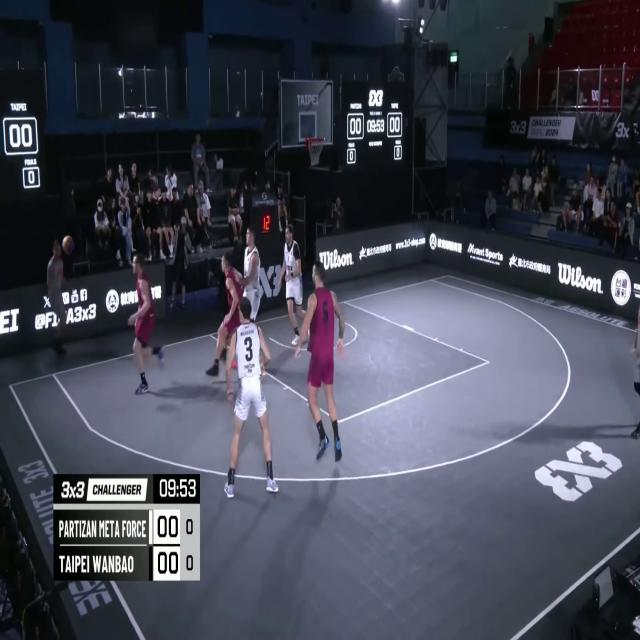ball: (62, 232, 74, 256)
hoop: (305, 136, 325, 168)
player: (224, 298, 276, 496), (304, 260, 346, 470), (204, 251, 245, 394), (127, 252, 166, 395), (278, 224, 304, 348), (240, 228, 261, 334)
